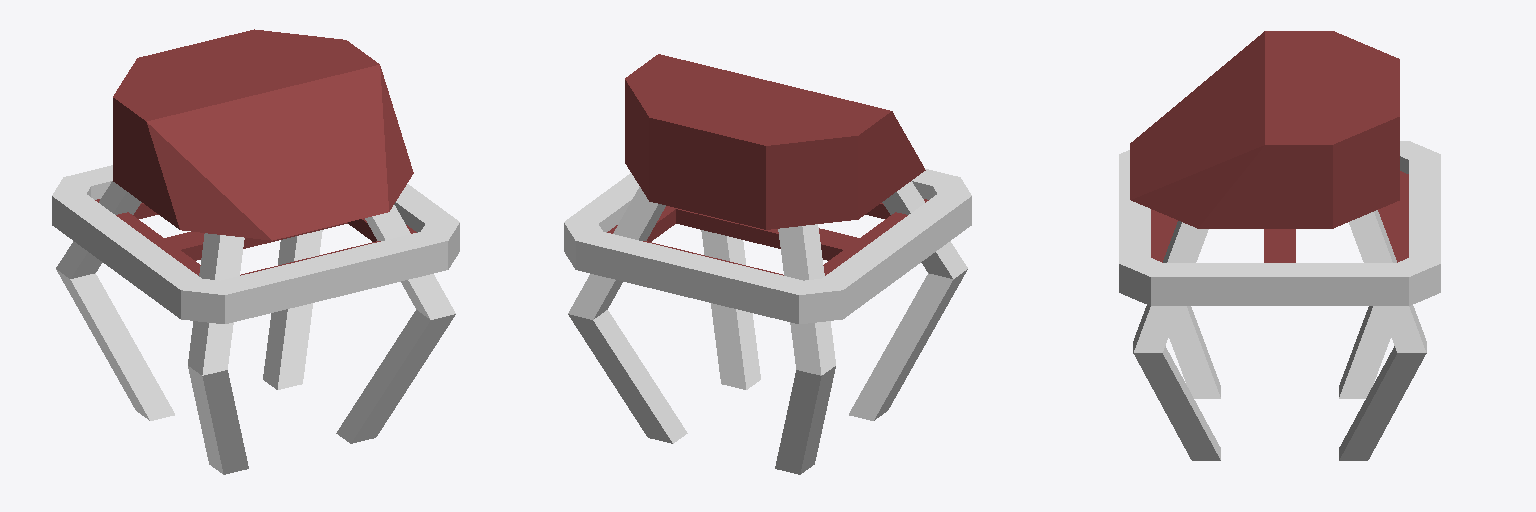
Rendered from walking_00_02.obj.
3 views of the same model, side by side, from view 1: azimuth 30°, elevation 25°; view 2: azimuth 150°, elevation 25°; view 3: azimuth 270°, elevation 25° (orthographic).
Visible parts, largest first — view 1: mergedBlocks; view 2: mergedBlocks; view 3: mergedBlocks.
Boxes of the visible parts, <box> form: mergedBlocks: <box>52,29,459,474</box>; mergedBlocks: <box>564,54,971,474</box>; mergedBlocks: <box>1119,31,1440,460</box>.
Bounding box in the file's own units: 1.1 × 1.27 × 1.1.